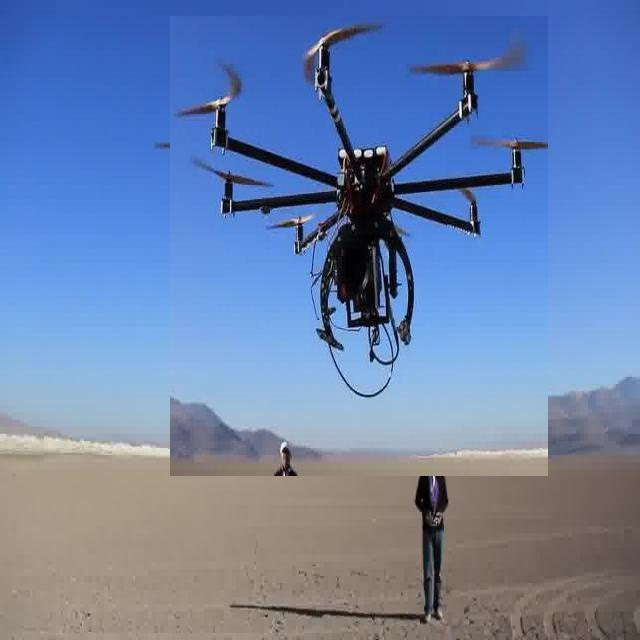drone: (170, 16, 548, 476)
